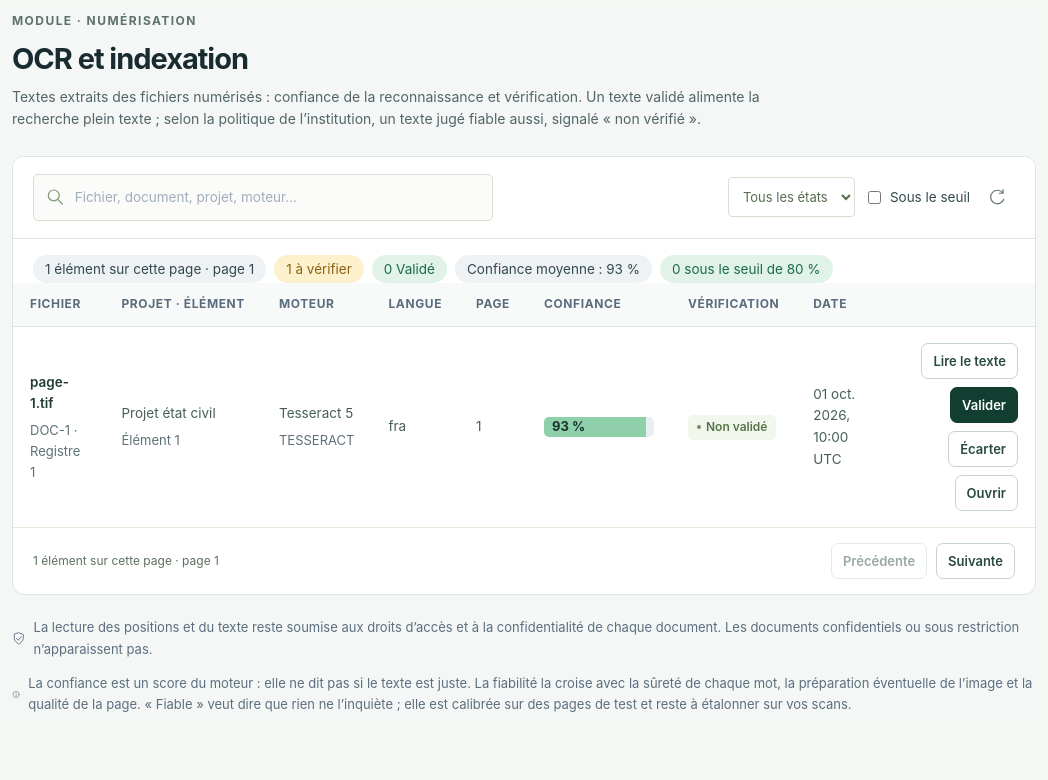
Scenario: filtre sur le serveur et revient à la première page pour chaque filtre
Expected: the text "page-1.tif" is shown, [30,374,69,411]
Click the button "Suivante".
click(976, 561)  # box [936,543,1015,579]
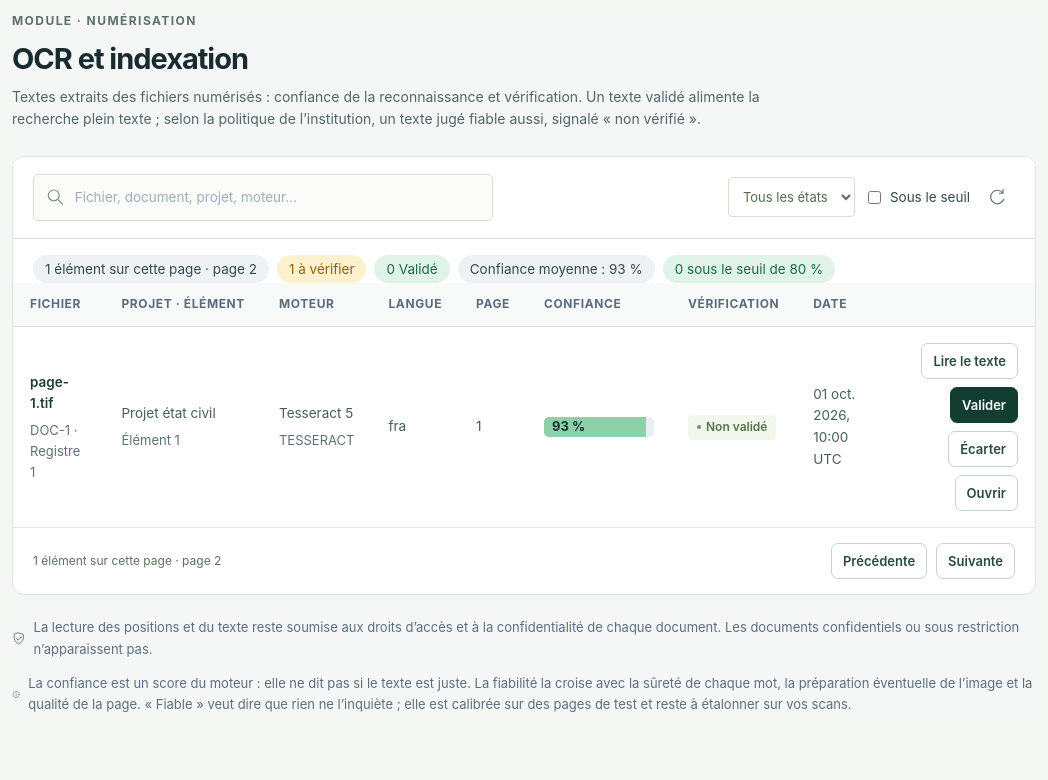
Select "Validés" in the dropdown named "État de vérification" at (791,197), box [728,177,855,217]
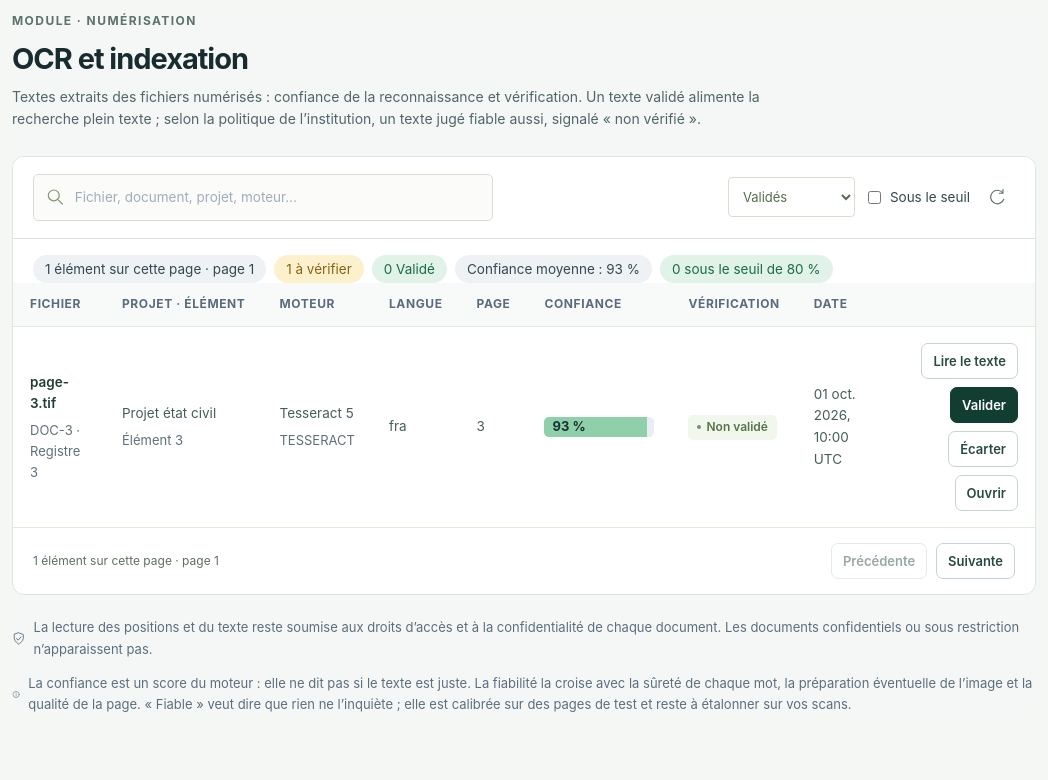
Result: the text "page-3.tif" is shown at [30,374,69,411]
Select "Tous les états" in the dropdown named "État de vérification" at (791,197), box [728,177,855,217]
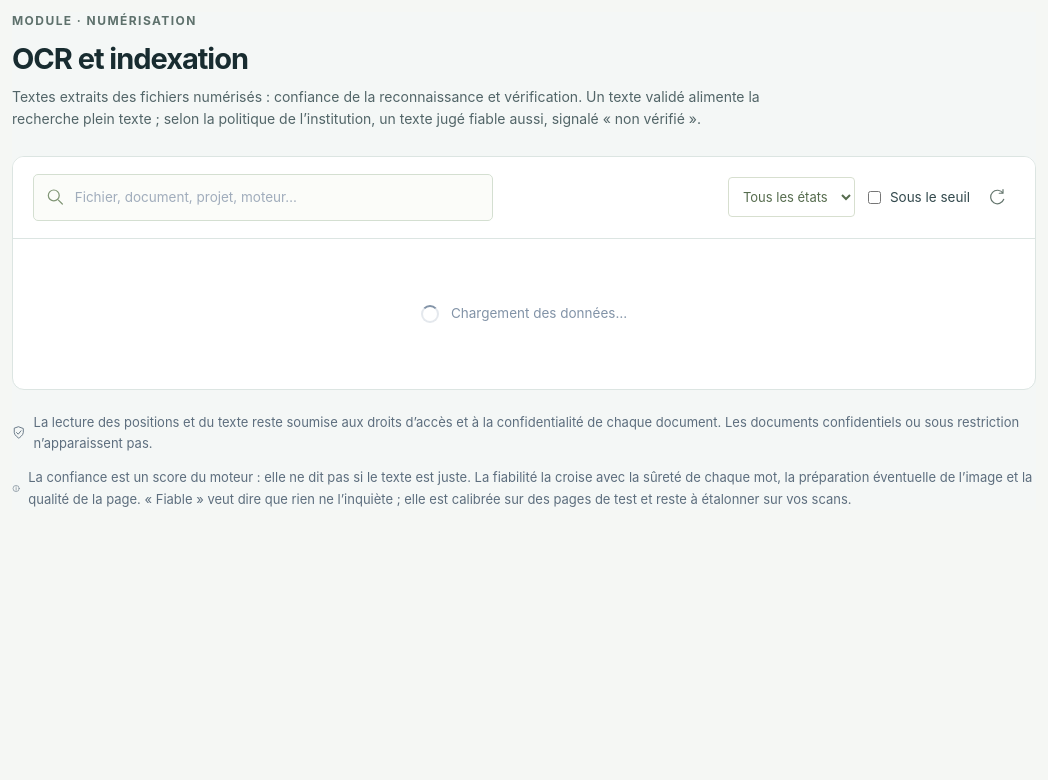
Click the checkbox labelled "Sous le seuil".
click(874, 197)  # box [868,191,881,204]
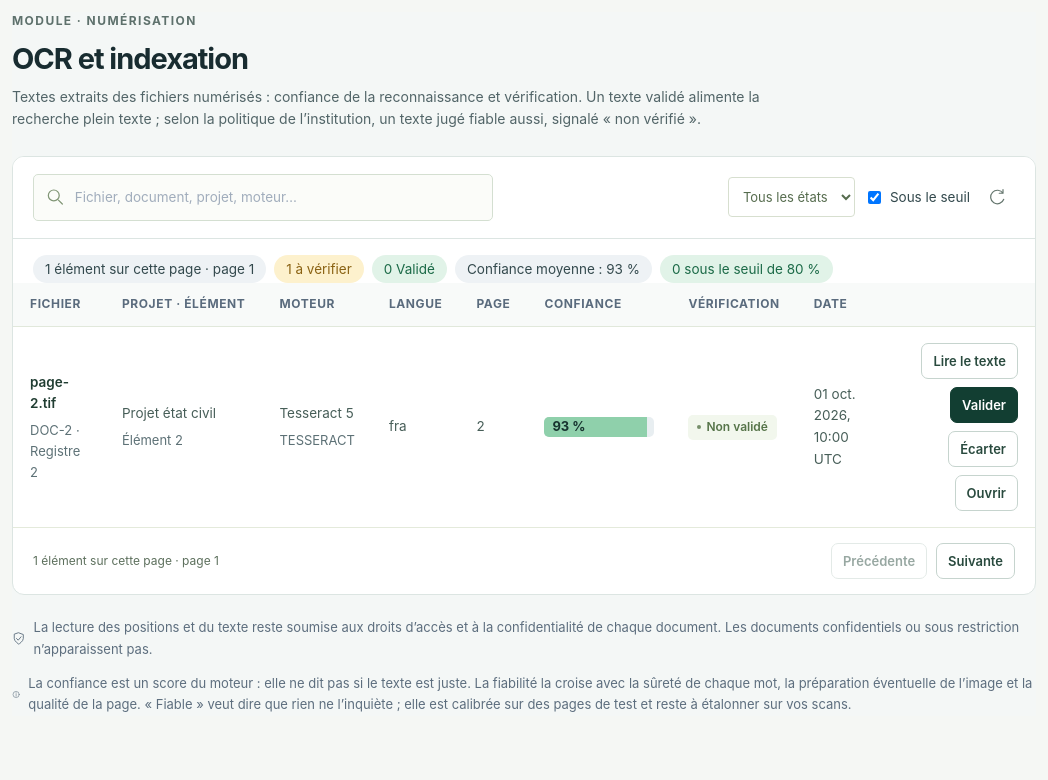
Result: the text "page-2.tif" is shown at [30,374,69,411]
Click the checkbox labelled "Sous le seuil".
click(874, 197)  # box [868,191,881,204]
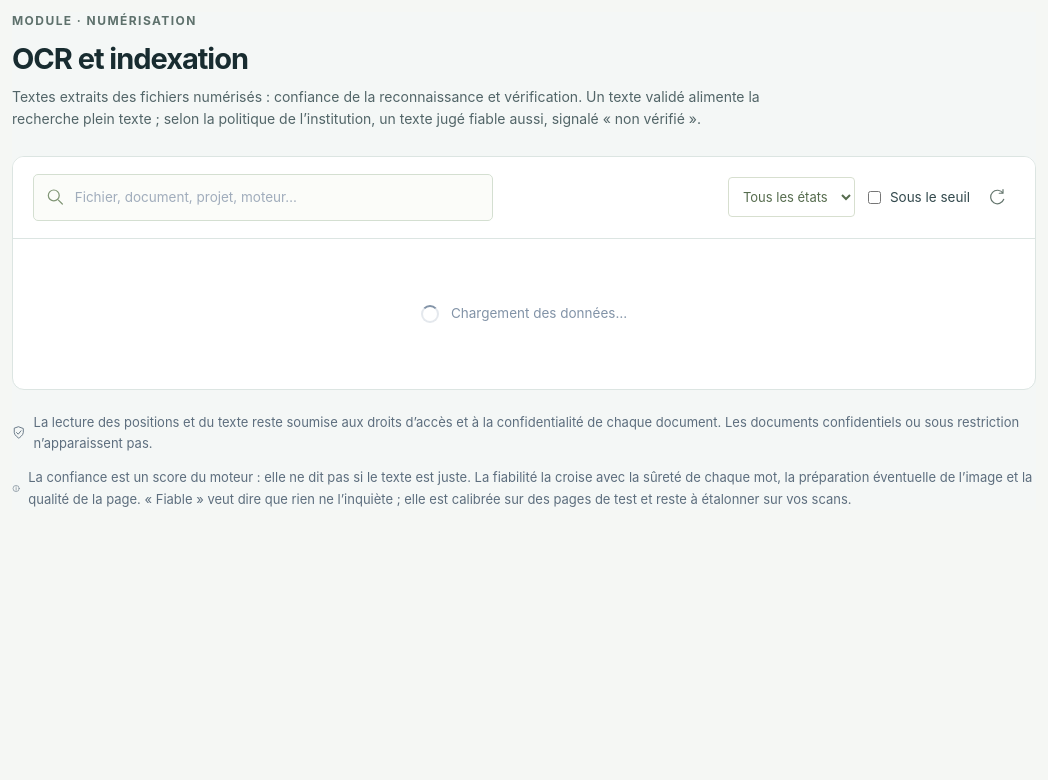
Type "registre 4" into the field named "Filtrer les résultats OCR".
click(277, 197); type("registre 4")  # box [75,175,480,220]
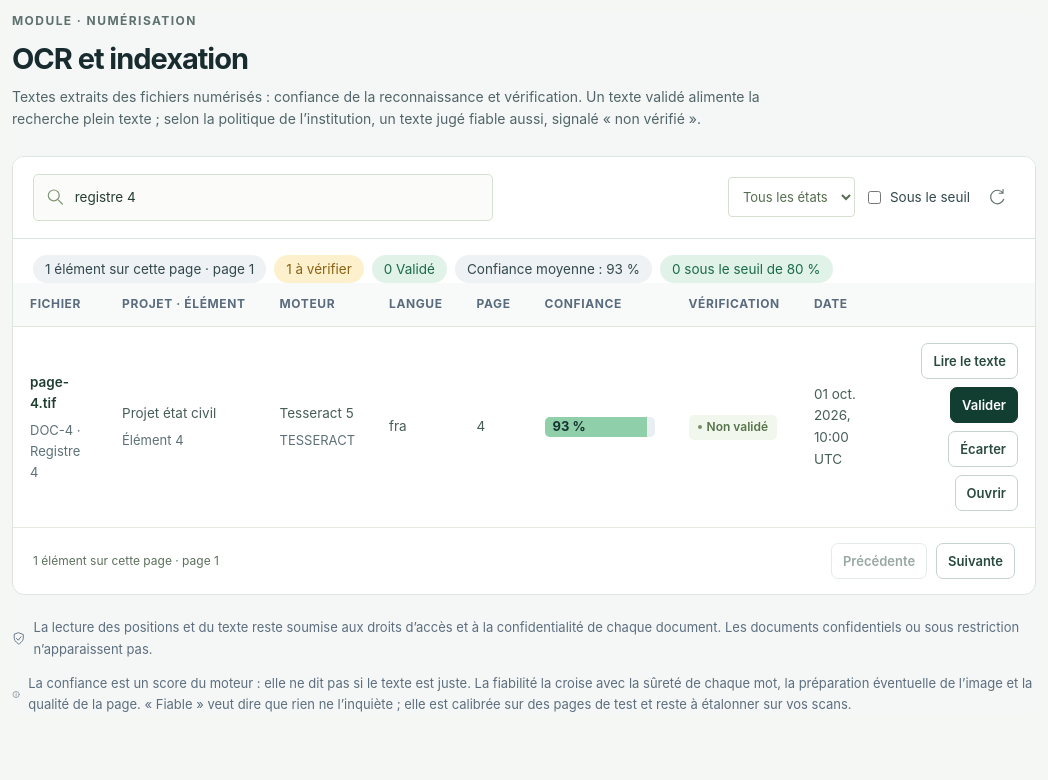
Result: the text "page-4.tif" is shown at [30,374,69,411]
